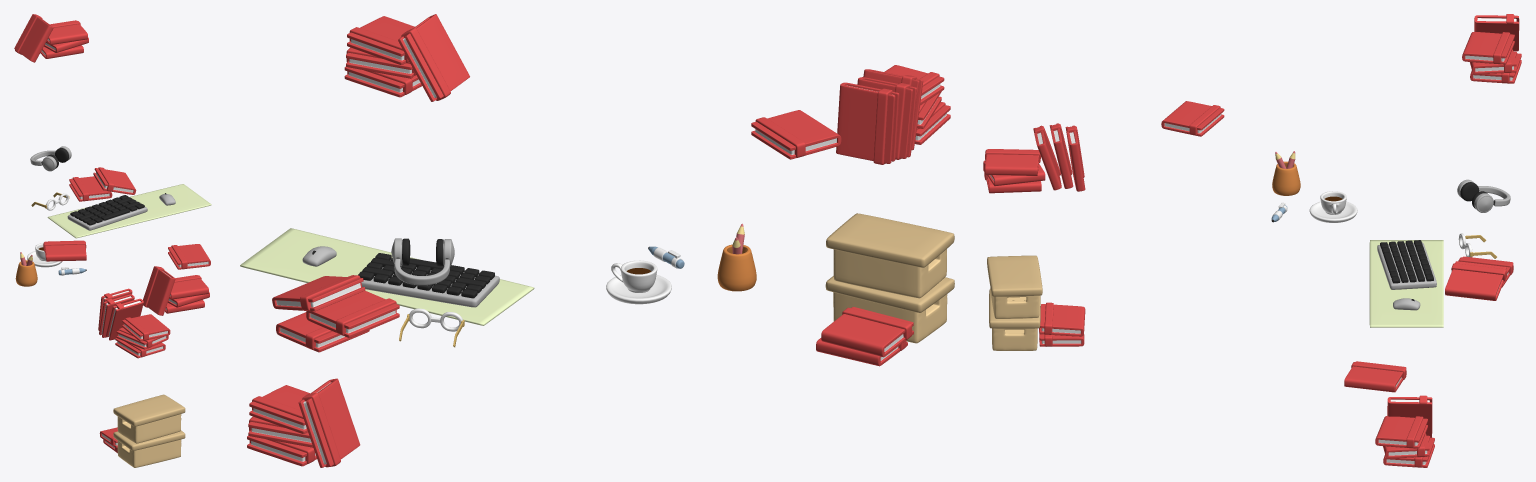
Rendered from props.glb.
3 views of the same model, side by side, from view 1: azimuth 30°, elevation 25°; view 2: azimuth 150°, elevation 25°; view 3: azimuth 270°, elevation 25° (orthographic). The views are drawn at different scales.
Visible parts, largest first — view 1: Plane.025, MousePad, Plane.024, Keyboard, Book.009, Book.018, Book.005, Book.011, Book.014, Book.019, Book.002, Book.010 (+15 smaller); view 2: Plane.025, MousePad, Book, Keyboard, Plane.024, Book.009, Book.018, Book.013, Book.011, Book.010, Book.019, Book.008 (+14 smaller); view 3: MousePad, Plane.025, Keyboard, Book.019, Plane.024, Book.011, Book.014, Book.005, Book.017, Book.008, Book.013, Book.018 (+14 smaller).
Part boxes in pixels (left/top/right/bottom): Plane.025: left=113, top=394, right=185, bottom=443; MousePad: left=47, top=184, right=211, bottom=238; Plane.024: left=113, top=430, right=185, bottom=467; Keyboard: left=67, top=195, right=147, bottom=230; Book.009: left=14, top=14, right=53, bottom=62; Book.018: left=143, top=266, right=175, bottom=315; Book.005: left=122, top=314, right=170, bottom=341; Book.011: left=43, top=240, right=86, bottom=261; Book.014: left=168, top=244, right=210, bottom=269; Book.019: left=93, top=167, right=136, bottom=194; Book.002: left=106, top=298, right=143, bottom=340; Book.010: left=69, top=176, right=112, bottom=201; Plane.025: left=826, top=213, right=954, bottom=298; MousePad: left=240, top=228, right=534, bottom=325; Book: left=836, top=82, right=899, bottom=164; Keyboard: left=358, top=253, right=499, bottom=307; Plane.024: left=825, top=276, right=954, bottom=343; Book.009: left=398, top=14, right=469, bottom=101; Book.018: left=298, top=378, right=360, bottom=467; Book.013: left=821, top=307, right=913, bottom=357; Book.011: left=751, top=110, right=841, bottom=159; Book.010: left=306, top=290, right=399, bottom=337; Book.019: left=272, top=275, right=365, bottom=311; Book.008: left=347, top=16, right=414, bottom=64; MousePad: left=1369, top=240, right=1443, bottom=327; Plane.025: left=987, top=255, right=1042, bottom=318; Keyboard: left=1377, top=240, right=1436, bottom=289; Book.019: left=1445, top=261, right=1506, bottom=300; Plane.024: left=989, top=289, right=1040, bottom=350; Book.011: left=1161, top=101, right=1224, bottom=136; Book.014: left=1344, top=361, right=1406, bottom=392; Book.005: left=985, top=149, right=1040, bottom=175; Book.017: left=1375, top=416, right=1427, bottom=448; Book.008: left=1462, top=32, right=1514, bottom=64; Book.013: left=1039, top=302, right=1085, bottom=336; Book.018: left=1387, top=395, right=1432, bottom=437.
Bounding box in the file's own units: 2.48 × 2.82 × 3.67.
